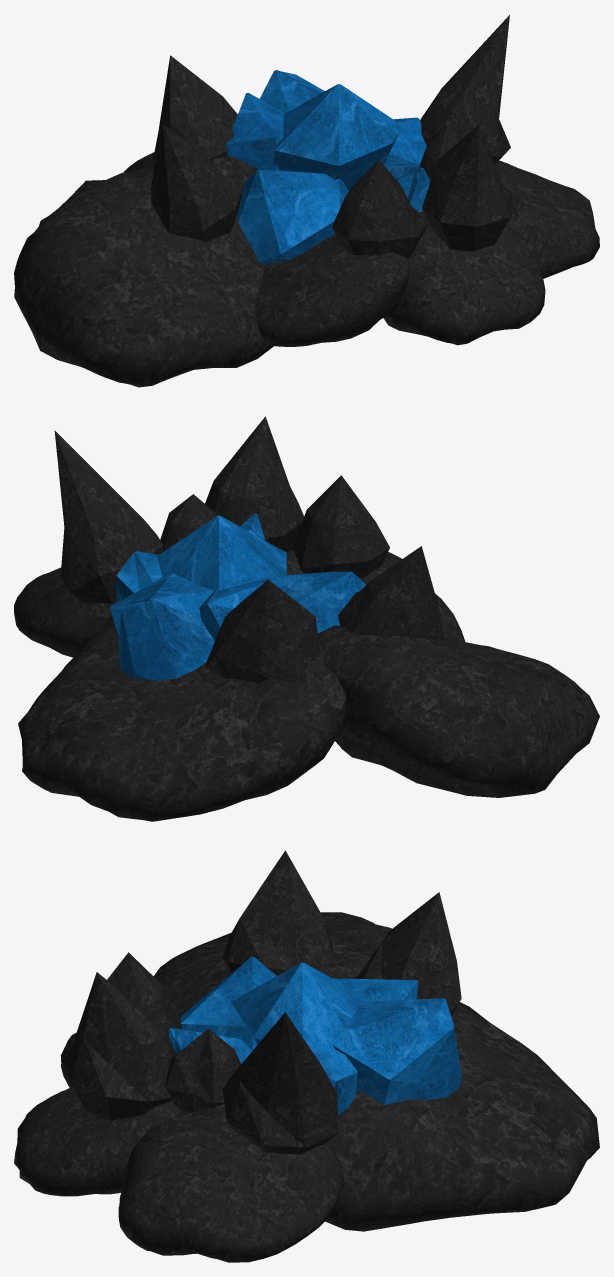
File: mine_Low.glb
The picture shows the model from 3 angles, top to bottom: view 1: azimuth 30°, elevation 25°; view 2: azimuth 150°, elevation 25°; view 3: azimuth 270°, elevation 25°; orthographic projection. The views are drawn at different scales.
Visible parts, largest first — view 1: Crystal Medium; view 2: Crystal Medium; view 3: Crystal Medium.
Boxes of the visible parts, bbox=[...] form: Crystal Medium: bbox=[14, 15, 599, 387]; Crystal Medium: bbox=[14, 416, 599, 821]; Crystal Medium: bbox=[14, 850, 599, 1262].
Size of the model in its own units: 116 by 50.58 by 99.58.
2 materials, 2 textured.
